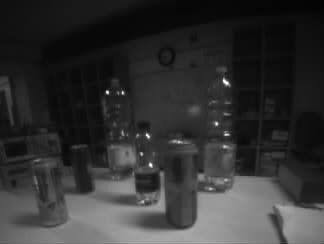Bottle: (203, 67, 234, 191), (106, 81, 135, 178), (133, 121, 158, 202)
Tin can: (165, 140, 197, 225), (33, 158, 66, 226), (72, 144, 95, 192)
